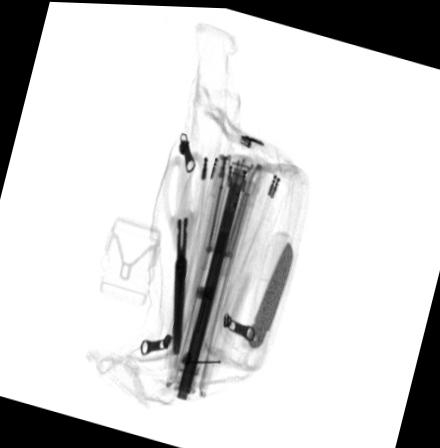Knife: (247, 236, 294, 344)
Scissors: (160, 151, 207, 354)
